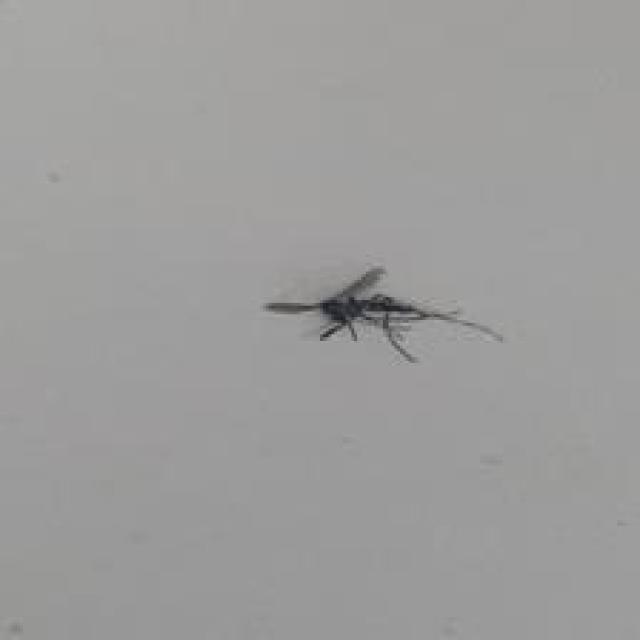Aedes albopictus: (263, 264, 503, 364)
